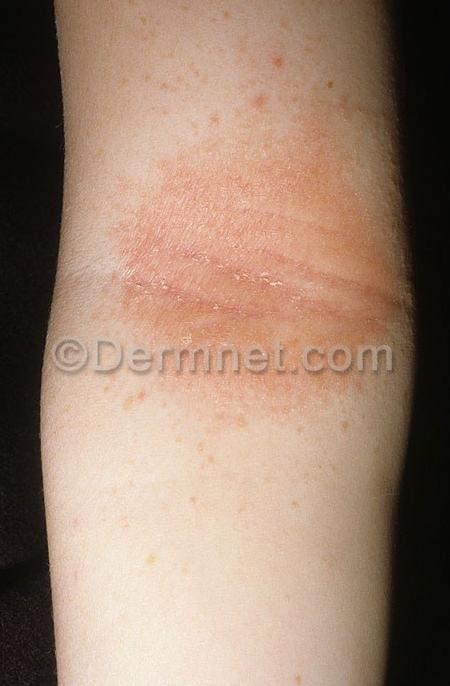Eritema 2: (100, 91, 413, 423)
edema 1: (80, 0, 332, 105)
